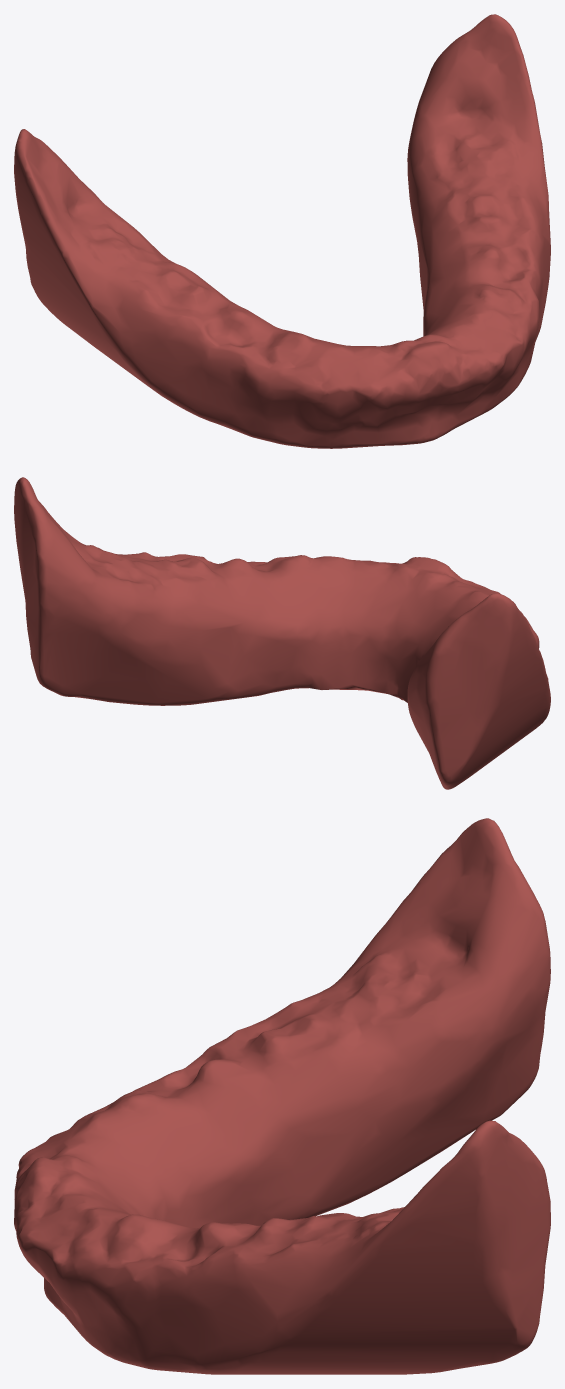
File: FMA59764.glb
3 views of the same model, one above another, from view 1: azimuth 30°, elevation 25°; view 2: azimuth 150°, elevation 25°; view 3: azimuth 270°, elevation 25° (orthographic). The views are drawn at different scales.
Parts seen in each view (by area): view 1: FMA59764; view 2: FMA59764; view 3: FMA59764.
Boxes of the visible parts, x1=… form: FMA59764: x1=14, y1=14, x2=550, y2=448; FMA59764: x1=14, y1=477, x2=550, y2=789; FMA59764: x1=14, y1=818, x2=550, y2=1374.
Size of the model in its own units: 0.0712 by 0.034 by 0.0506.
